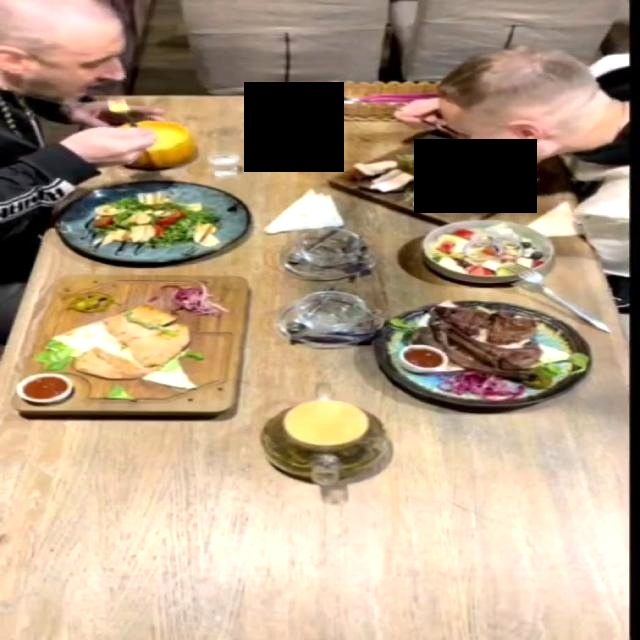meat: (11, 278, 248, 411), (370, 298, 590, 407)
salad: (53, 180, 249, 265), (420, 218, 555, 283)
soup: (328, 136, 569, 226), (115, 120, 197, 168)
tea: (257, 370, 400, 500)
